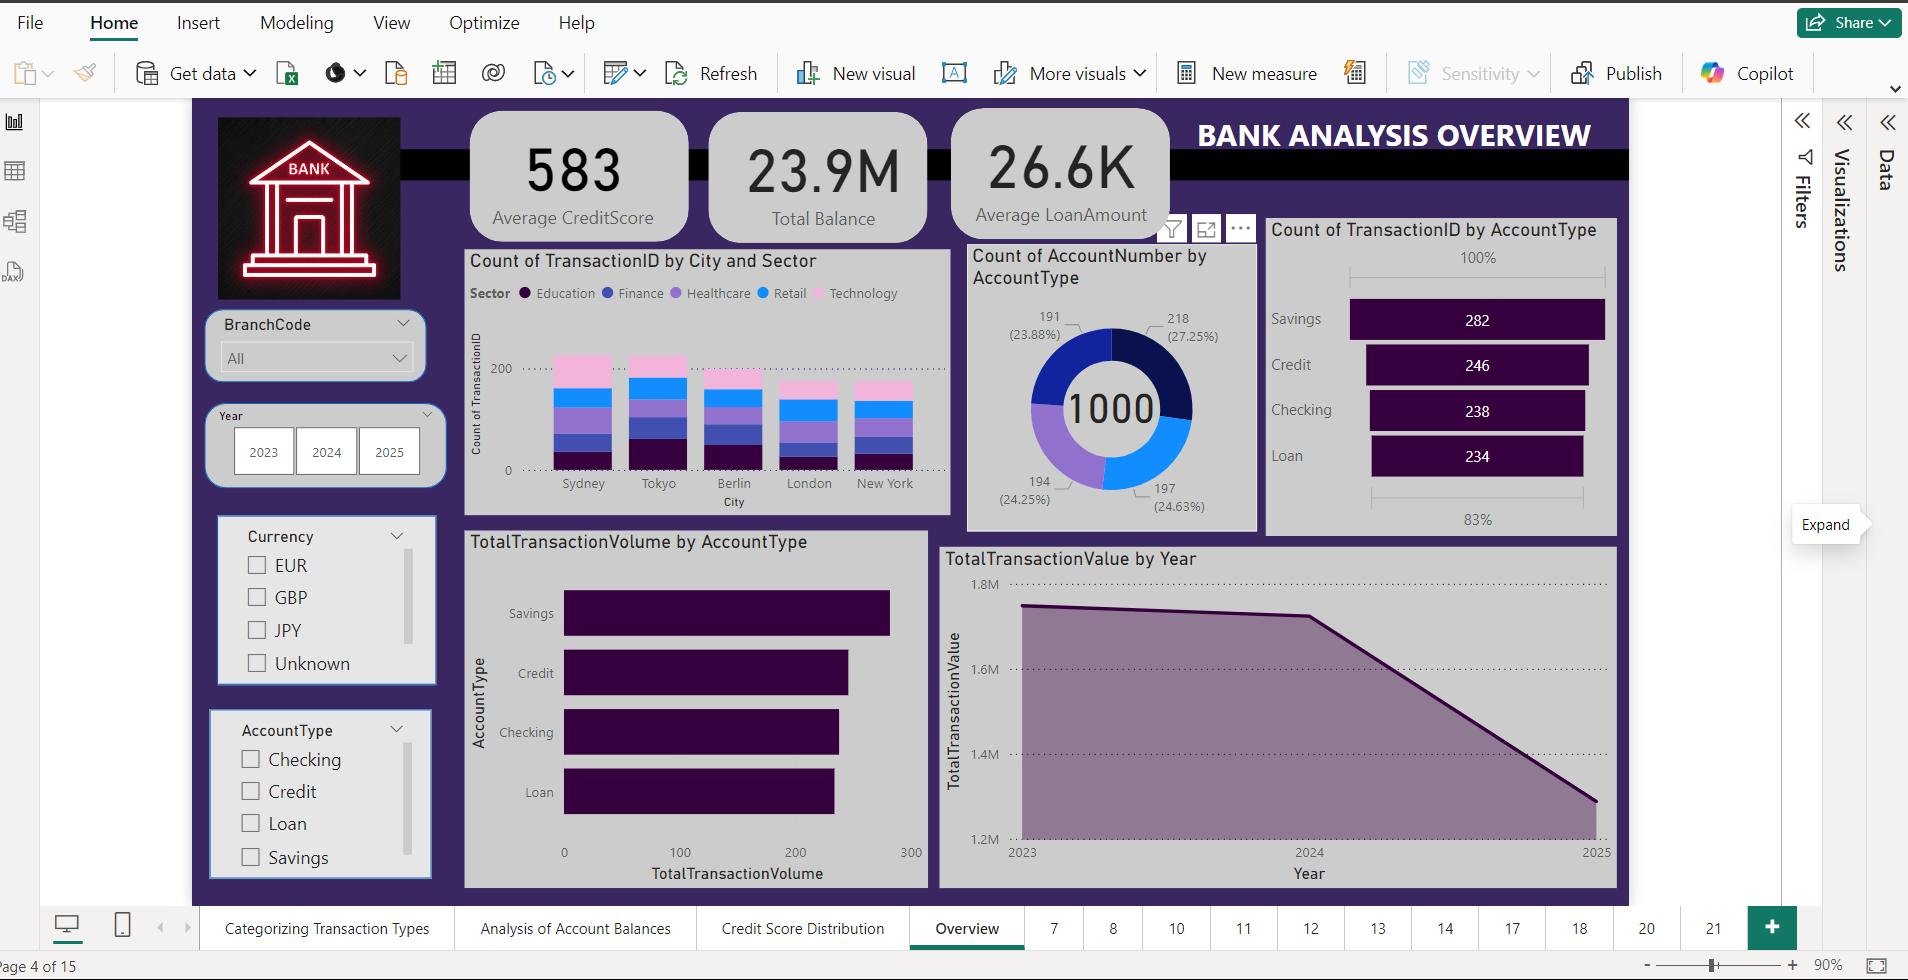

This screenshot's page, from the dashboard's own definition file:
{"tool":"powerbi","page":{"name":"Overview","canvas":[1280,720],"ordinal":3},"visuals":[{"type":"barChart","fields":{"Category":["MergedData.AccountType"],"Y":["TransactionDetails.TotalTransactionVolume"]},"box":[242.5,384.9,412.6,318.5],"z":0},{"type":"lineChart","fields":{"Category":["MergedData.TransactionDate.Variation.Date Hierarchy.Year","MergedData.OpeningDate.Variation.Date Hierarchy.Year","MergedData.OpeningDate.Variation.Date Hierarchy.Quarter"],"Y":["TransactionDetails.TotalTransactionValue"]},"box":[666,399.3,603.2,304],"z":1000},{"type":"donutChart","fields":{"Y":["CountNonNull(AccountDetails.AccountNumber)"],"Category":["AccountDetails.AccountType"]},"box":[690.1,130.3,258.2,255.8],"z":2000},{"type":"textbox","box":[883.1,8.4,375.2,48.3],"z":3000},{"type":"funnel","fields":{"Y":["CountNonNull(MergedData.TransactionID)"],"Category":["MergedData.AccountType"]},"box":[956.7,107.4,312.5,283.5],"z":4000},{"type":"shape","box":[183.4,45.8,1096.7,27.7],"z":5000},{"type":"shape","box":[459.7,12.1,195.4,117],"z":6000},{"type":"shape","box":[247.3,10.9,195.4,117],"z":7000},{"type":"card","fields":{"Values":["Avg(MergedData.CreditScore)"]},"box":[247.3,14.5,184.6,106.2],"z":8000},{"type":"card","fields":{"Values":["Sum(MergedData.Balance)"]},"box":[469.3,12.1,185.8,112.2],"z":9000},{"type":"shape","box":[675.6,8.4,195.4,117],"z":10000},{"type":"card","fields":{"Values":["Avg(MergedData.LoanAmount)"]},"box":[666.3,8.1,215.1,115.1],"z":11000},{"type":"shape","box":[21.7,371.6,195.4,150.8],"z":12000},{"type":"slicer","fields":{"Values":["TransactionDetails.Currency"]},"box":[36.7,377.4,164.8,140.3],"z":13000},{"type":"shape","box":[15.7,544.1,197.9,150.8],"z":14000},{"type":"image","box":[0,12.1,208.7,172.5],"z":15000},{"type":"shape","box":[10.9,188.2,197.9,65.1],"z":16000},{"type":"slicer","fields":{"Values":["TransactionDetails.BranchCode"]},"box":[15.7,188.2,191.8,70],"z":17000},{"type":"shape","box":[10.9,271.4,216,76],"z":18000},{"type":"slicer","fields":{"Values":["TransactionDetails.TransactionDate.Variation.Date Hierarchy.Year"]},"box":[10.9,271.4,216,71.2],"z":19000},{"type":"slicer","fields":{"Values":["AccountDetails.AccountType"]},"box":[31.4,550.1,170.1,141.2],"z":20000},{"type":"columnChart","fields":{"Series":["MergedData.Sector"],"Category":["MergedData.City"],"Y":["CountNonNull(MergedData.TransactionID)"]},"box":[242.5,135.1,433.1,236.5],"z":21000},{"type":"card","fields":{"Values":["CountNonNull(MergedData.AccountNumber)"]},"box":[759.3,238.4,117.4,68.6],"z":22500}]}

Visuals, with their boxes on the page's 1280x720 design canvas (x1, y1, x2, y2). These are canvas units, not pixel positions in the 1908x980 screenshot, which may show the page scaled, cropped or inside an application window:
barChart - MergedData.AccountType x TransactionDetails.TotalTransactionVolume: [242,385,655,703]
lineChart - MergedData.TransactionDate.Variation.Date Hierarchy.Year x MergedData.OpeningDate.Variation.Date Hierarchy.Year: [666,399,1269,703]
donutChart - CountNonNull(AccountDetails.AccountNumber) x AccountDetails.AccountType: [690,130,948,386]
textbox: [883,8,1258,57]
funnel - CountNonNull(MergedData.TransactionID) x MergedData.AccountType: [957,107,1269,391]
shape: [183,46,1280,74]
shape: [460,12,655,129]
shape: [247,11,443,128]
card - Avg(MergedData.CreditScore): [247,14,432,121]
card - Sum(MergedData.Balance): [469,12,655,124]
shape: [676,8,871,125]
card - Avg(MergedData.LoanAmount): [666,8,881,123]
shape: [22,372,217,522]
slicer - TransactionDetails.Currency: [37,377,202,518]
shape: [16,544,214,695]
image: [0,12,209,185]
shape: [11,188,209,253]
slicer - TransactionDetails.BranchCode: [16,188,208,258]
shape: [11,271,227,347]
slicer - TransactionDetails.TransactionDate.Variation.Date Hierarchy.Year: [11,271,227,343]
slicer - AccountDetails.AccountType: [31,550,202,691]
columnChart - MergedData.Sector x MergedData.City: [242,135,676,372]
card - CountNonNull(MergedData.AccountNumber): [759,238,877,307]
